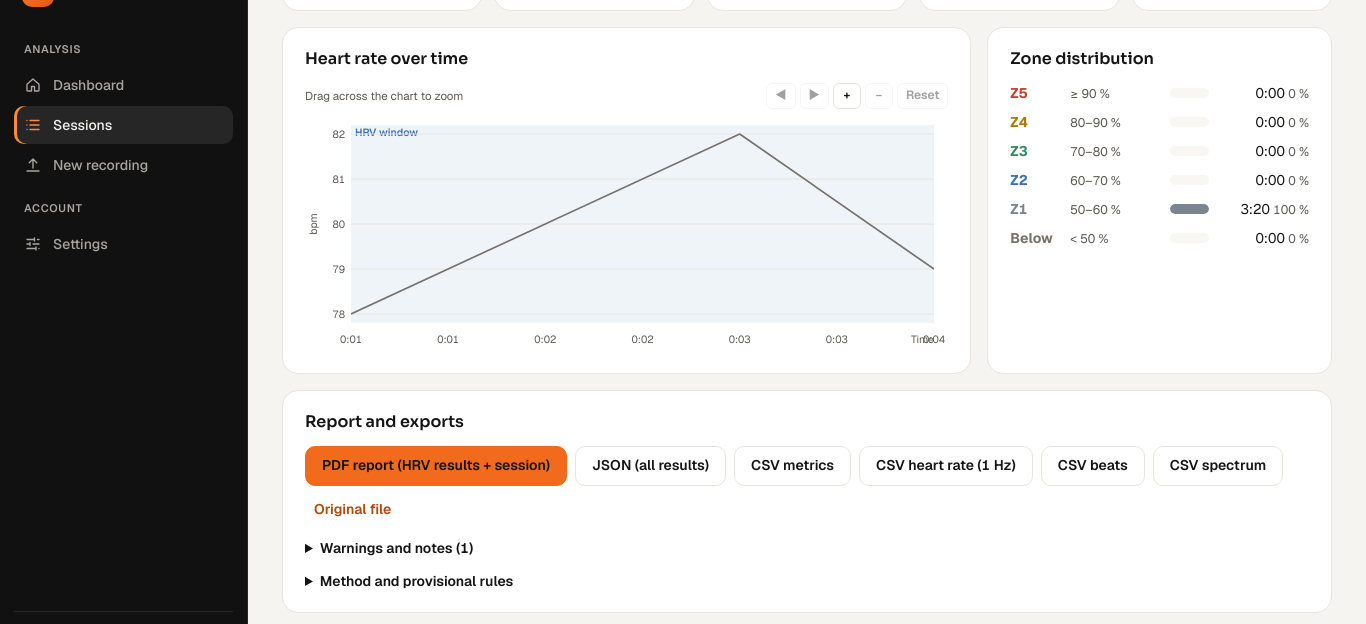
Test case: session view › downloads the PDF with the auth header
The width and height of the screenshot is (1366, 624).
(page scrolled)
Click the button "PDF report (HRV results + session)" at (436, 466), box [305,446,567,486]
(page scrolled)
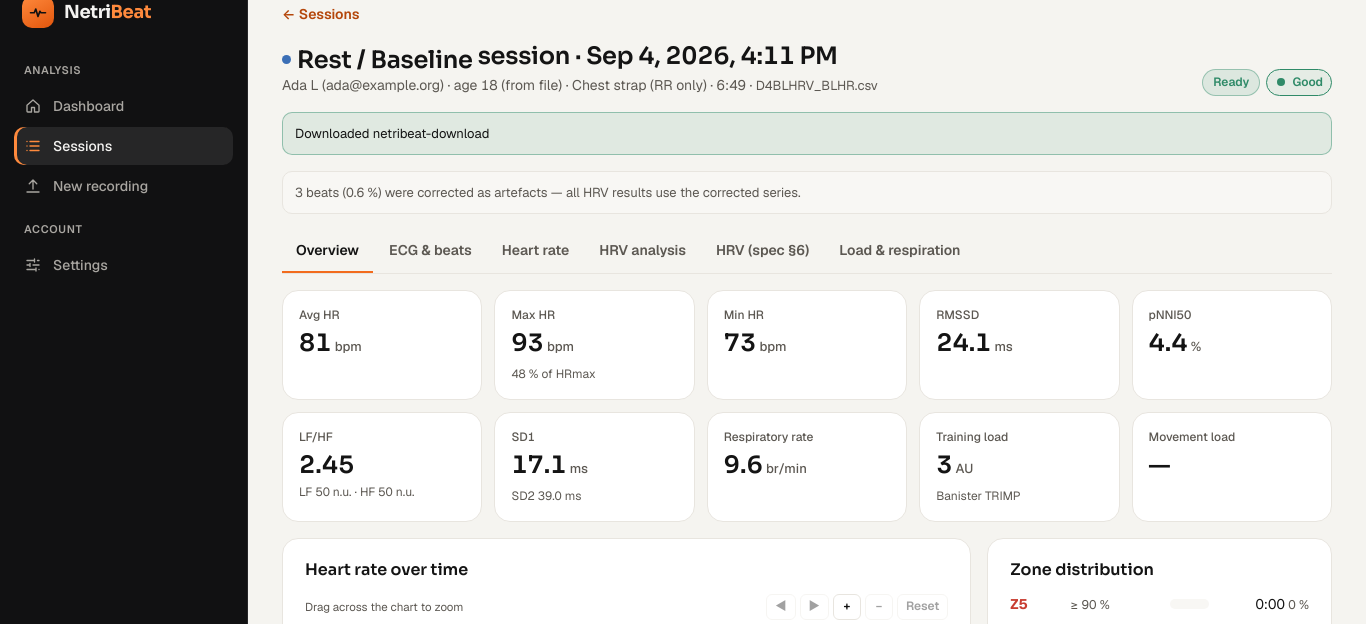
Check: the text "Downloaded netribeat-download" is shown, box [282,112,1332,154]
